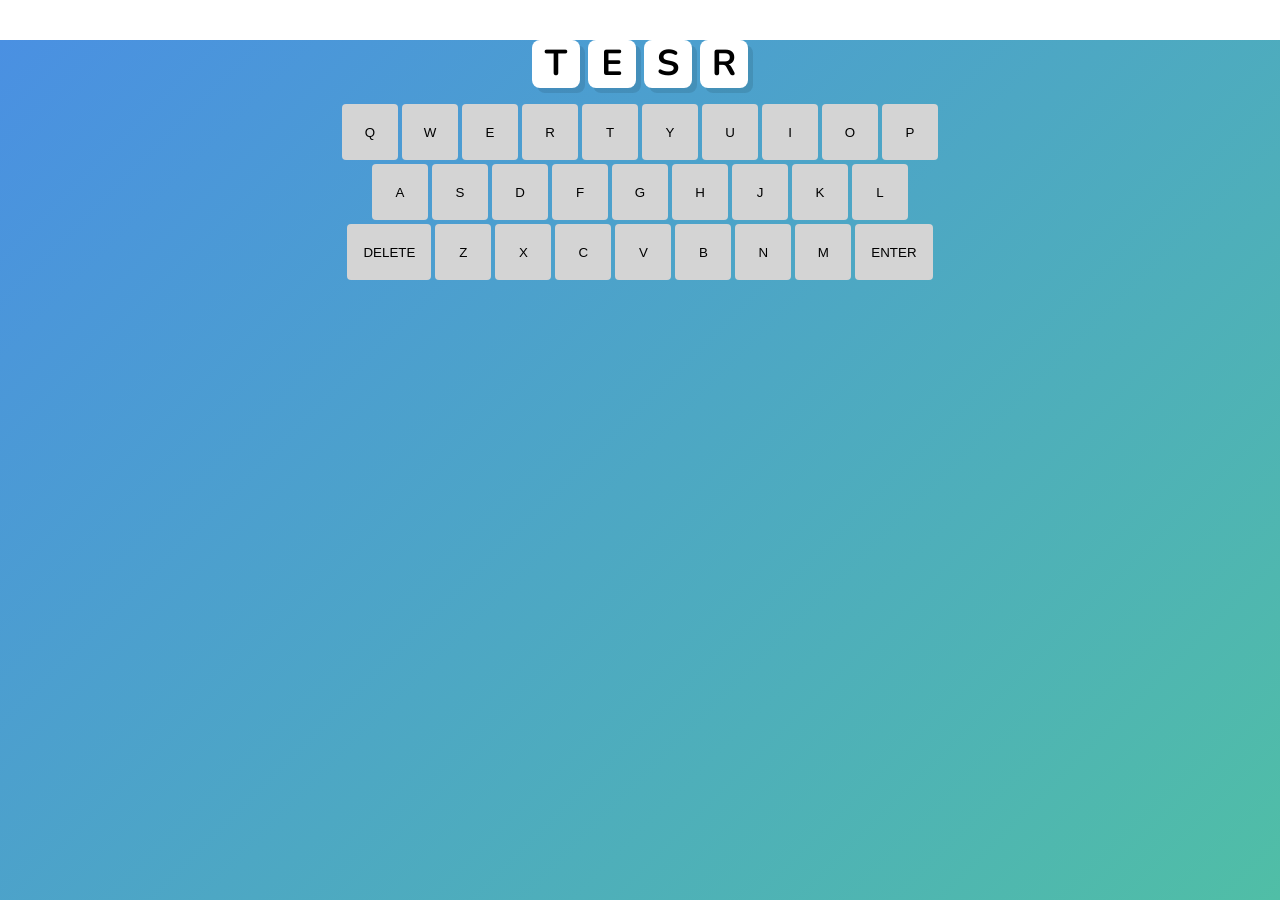
Test: GuessGame component › Losing modal › Should show modal if the last guess is false
What coordinates should you click on to do the following:
click the button "ENTER"
I would click on:
 (894, 252)
Its box is top-left (855, 224), bottom-right (932, 280).
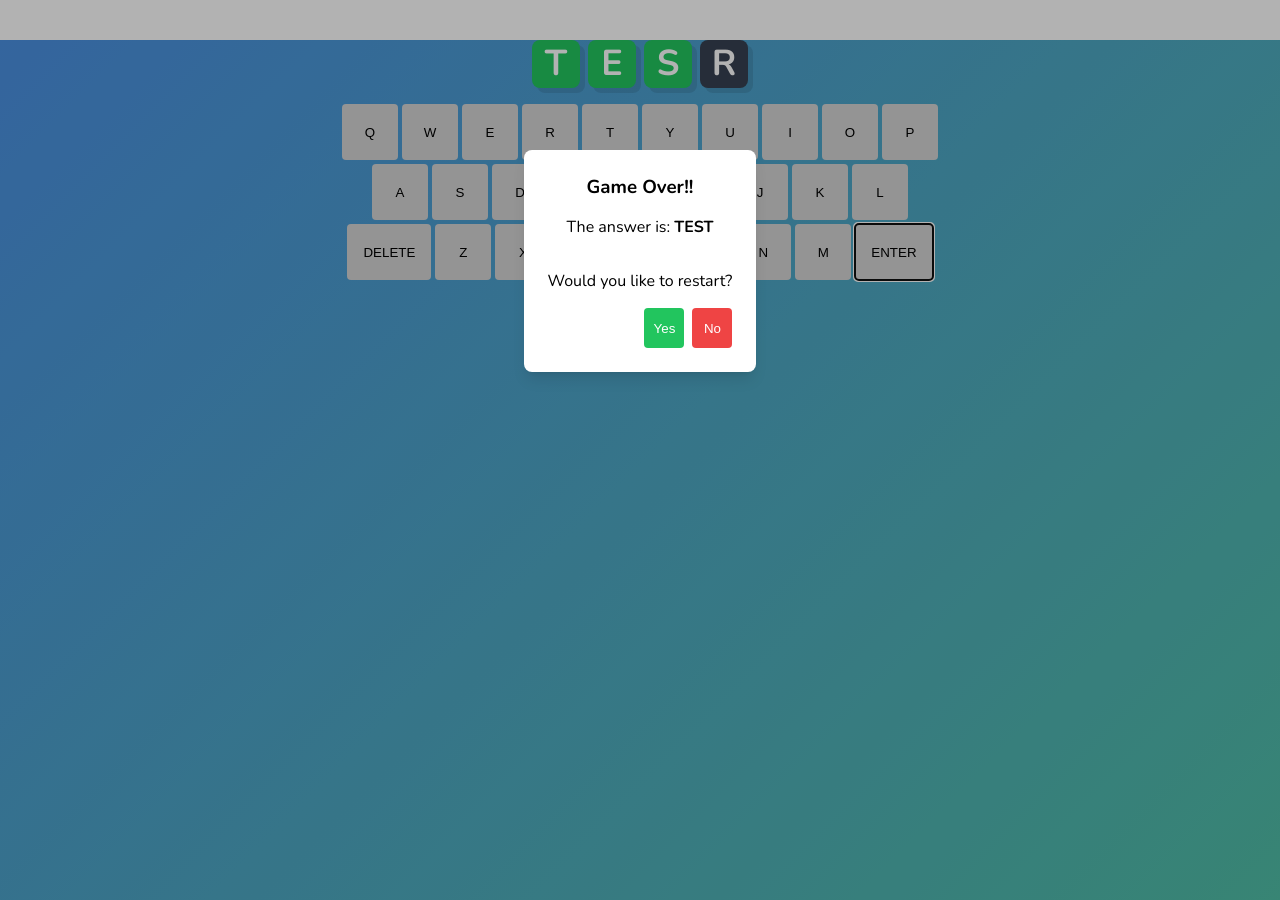
Expected: the heading "Game Over!!" is shown, top-left (586, 174), bottom-right (693, 200)
